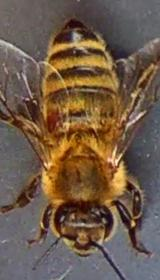varroa_mite: (36, 102, 66, 137)
